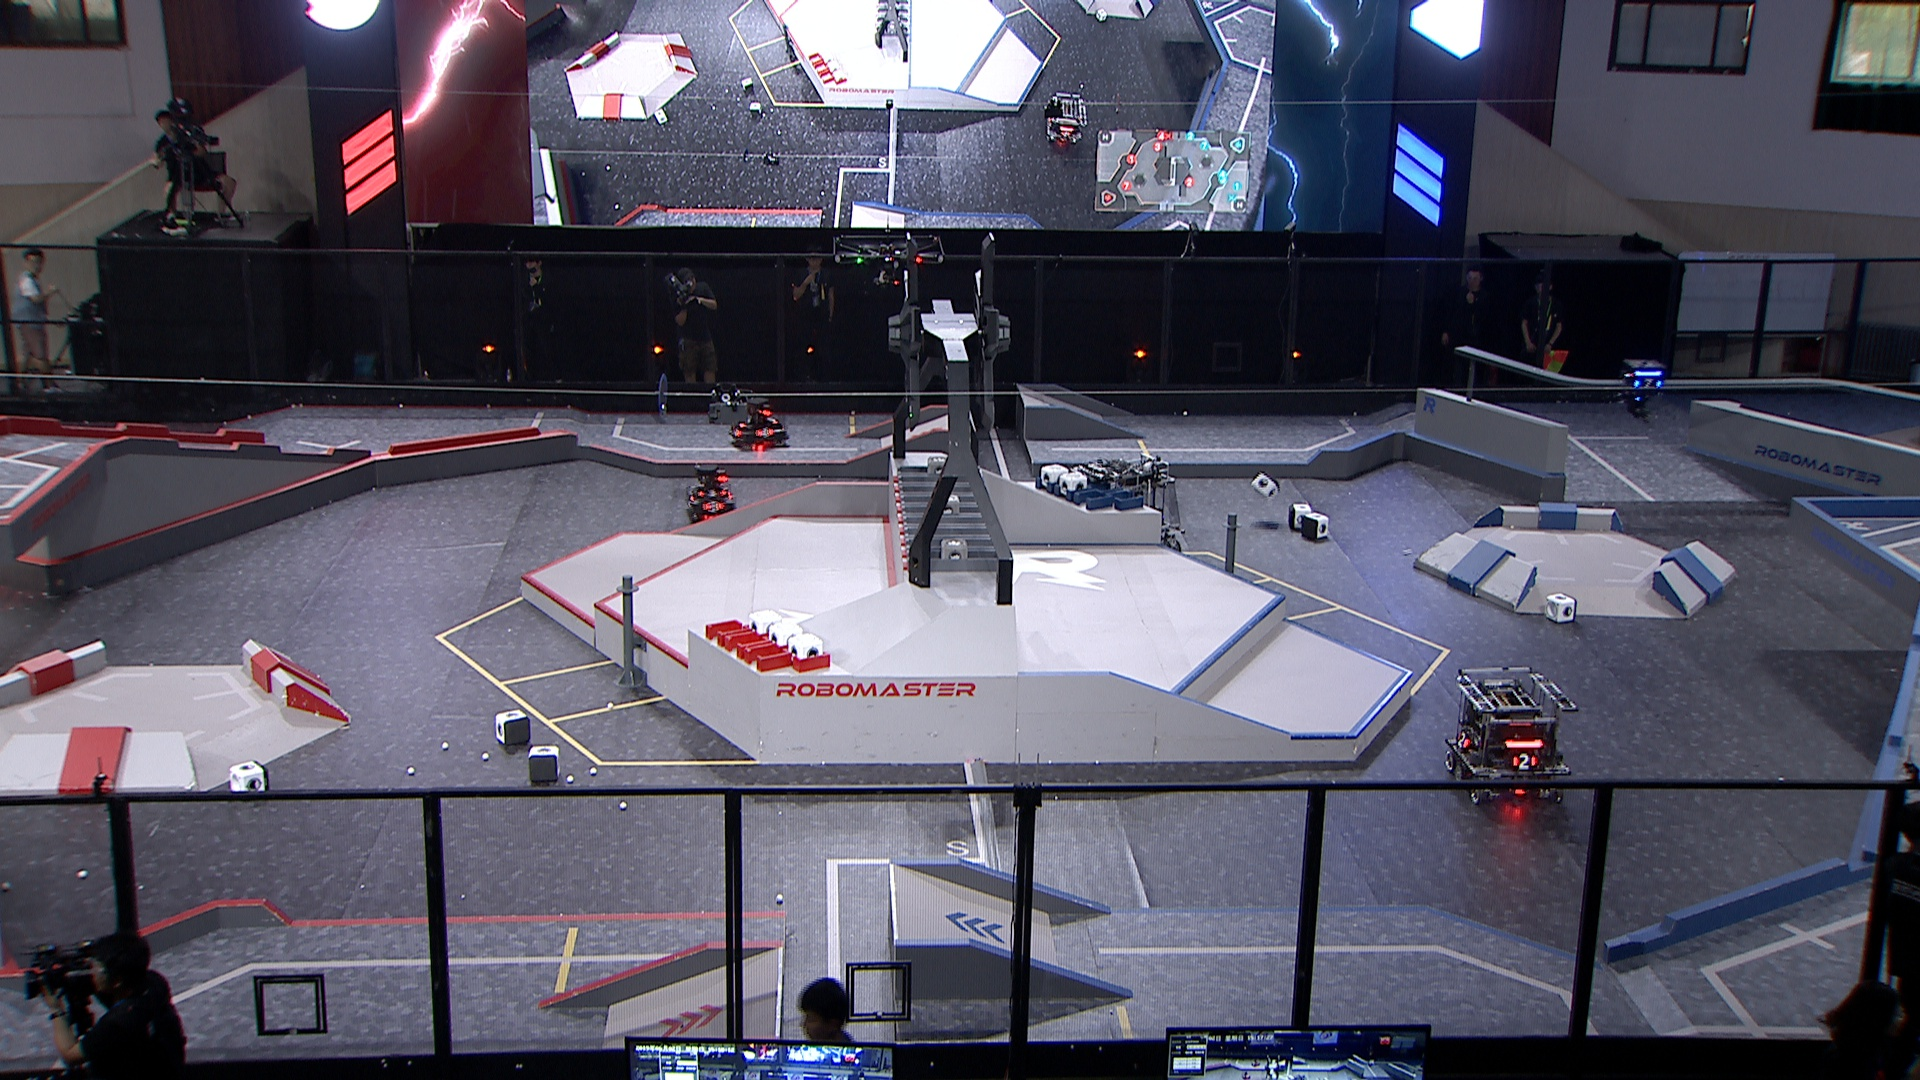armor: (1634, 376, 1664, 390), (1513, 754, 1539, 770), (698, 487, 731, 498), (703, 498, 724, 514), (1456, 732, 1472, 752), (756, 429, 775, 438), (731, 427, 744, 439)
car: (1447, 665, 1581, 806), (1077, 454, 1187, 560), (684, 462, 738, 524), (728, 398, 789, 451)
ignore: (1043, 94, 1088, 146)
watcher: (1619, 357, 1665, 422)
